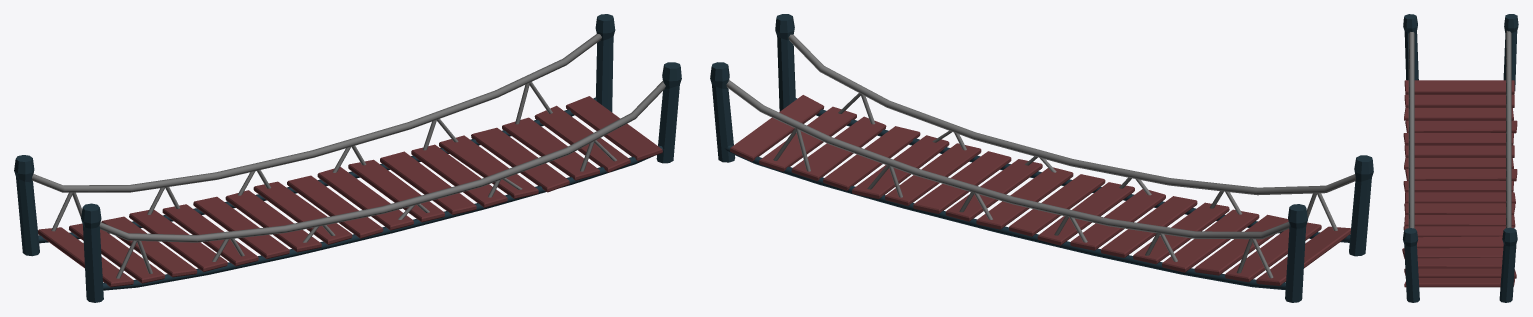
File: bridge_05.glb
3 renders of one model, left to right at view 1: azimuth 30°, elevation 25°; view 2: azimuth 150°, elevation 25°; view 3: azimuth 270°, elevation 25°, orthographic. The views are drawn at different scales.
Parts seen in each view (by area): view 1: bridge_05; view 2: bridge_05; view 3: bridge_05.
Boxes of the visible parts, x1=… form: bridge_05: x1=14, y1=14, x2=681, y2=302; bridge_05: x1=710, y1=14, x2=1373, y2=302; bridge_05: x1=1402, y1=14, x2=1518, y2=302.
Size of the model in its own units: 9.54 by 1.52 by 2.12.
Materials: 1 (1 with a texture image).
